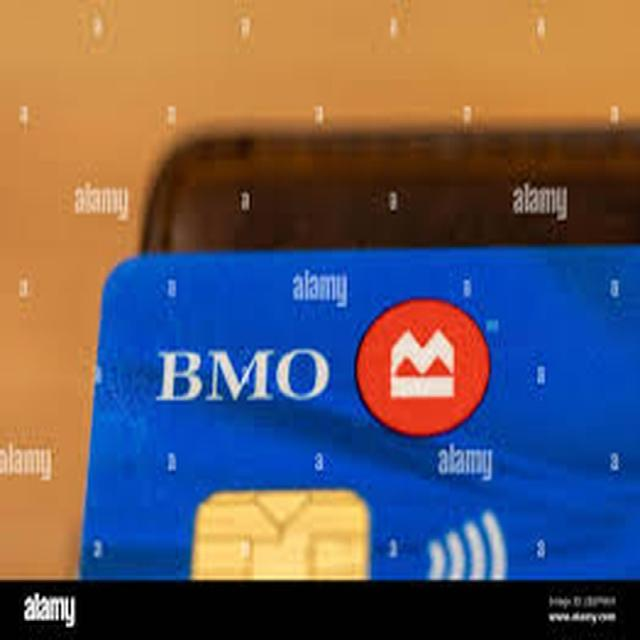card: (30, 228, 638, 622)
